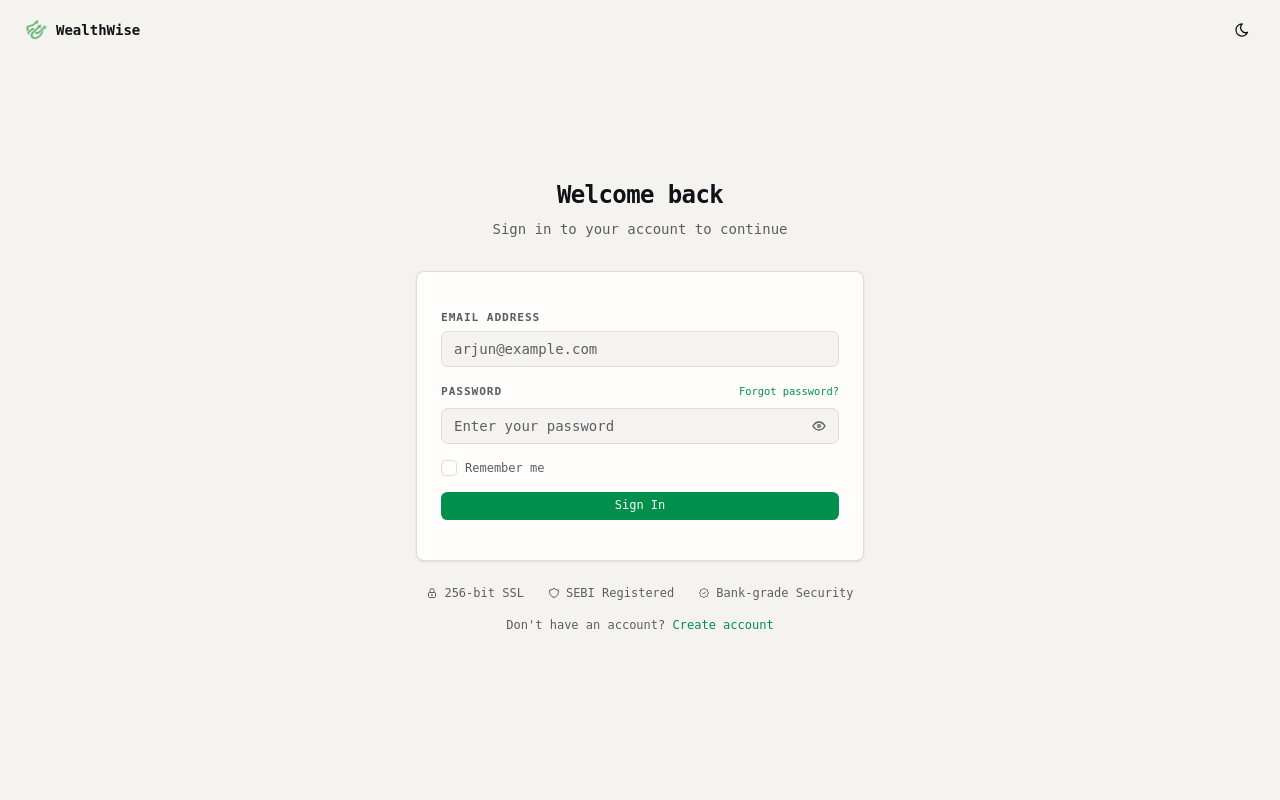
SignInPage › shows error when email is empty on submit
Click the button "Sign In" at (640, 506), box [441,492,839,520]
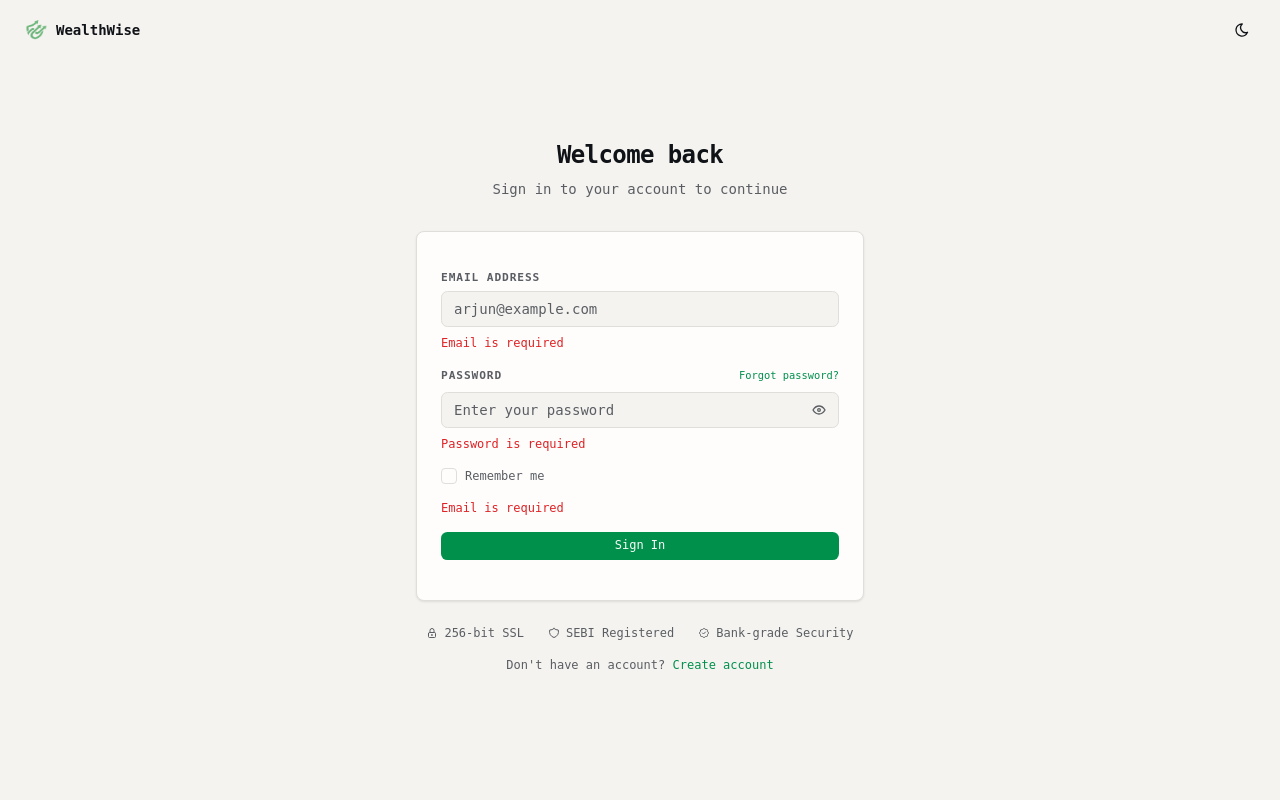
Now the text "Email is required" is shown, box [441,336,564,350]
